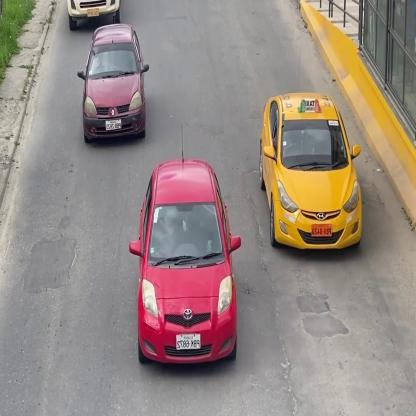Placa: (176, 334, 202, 350), (310, 223, 332, 240), (105, 119, 121, 133)
